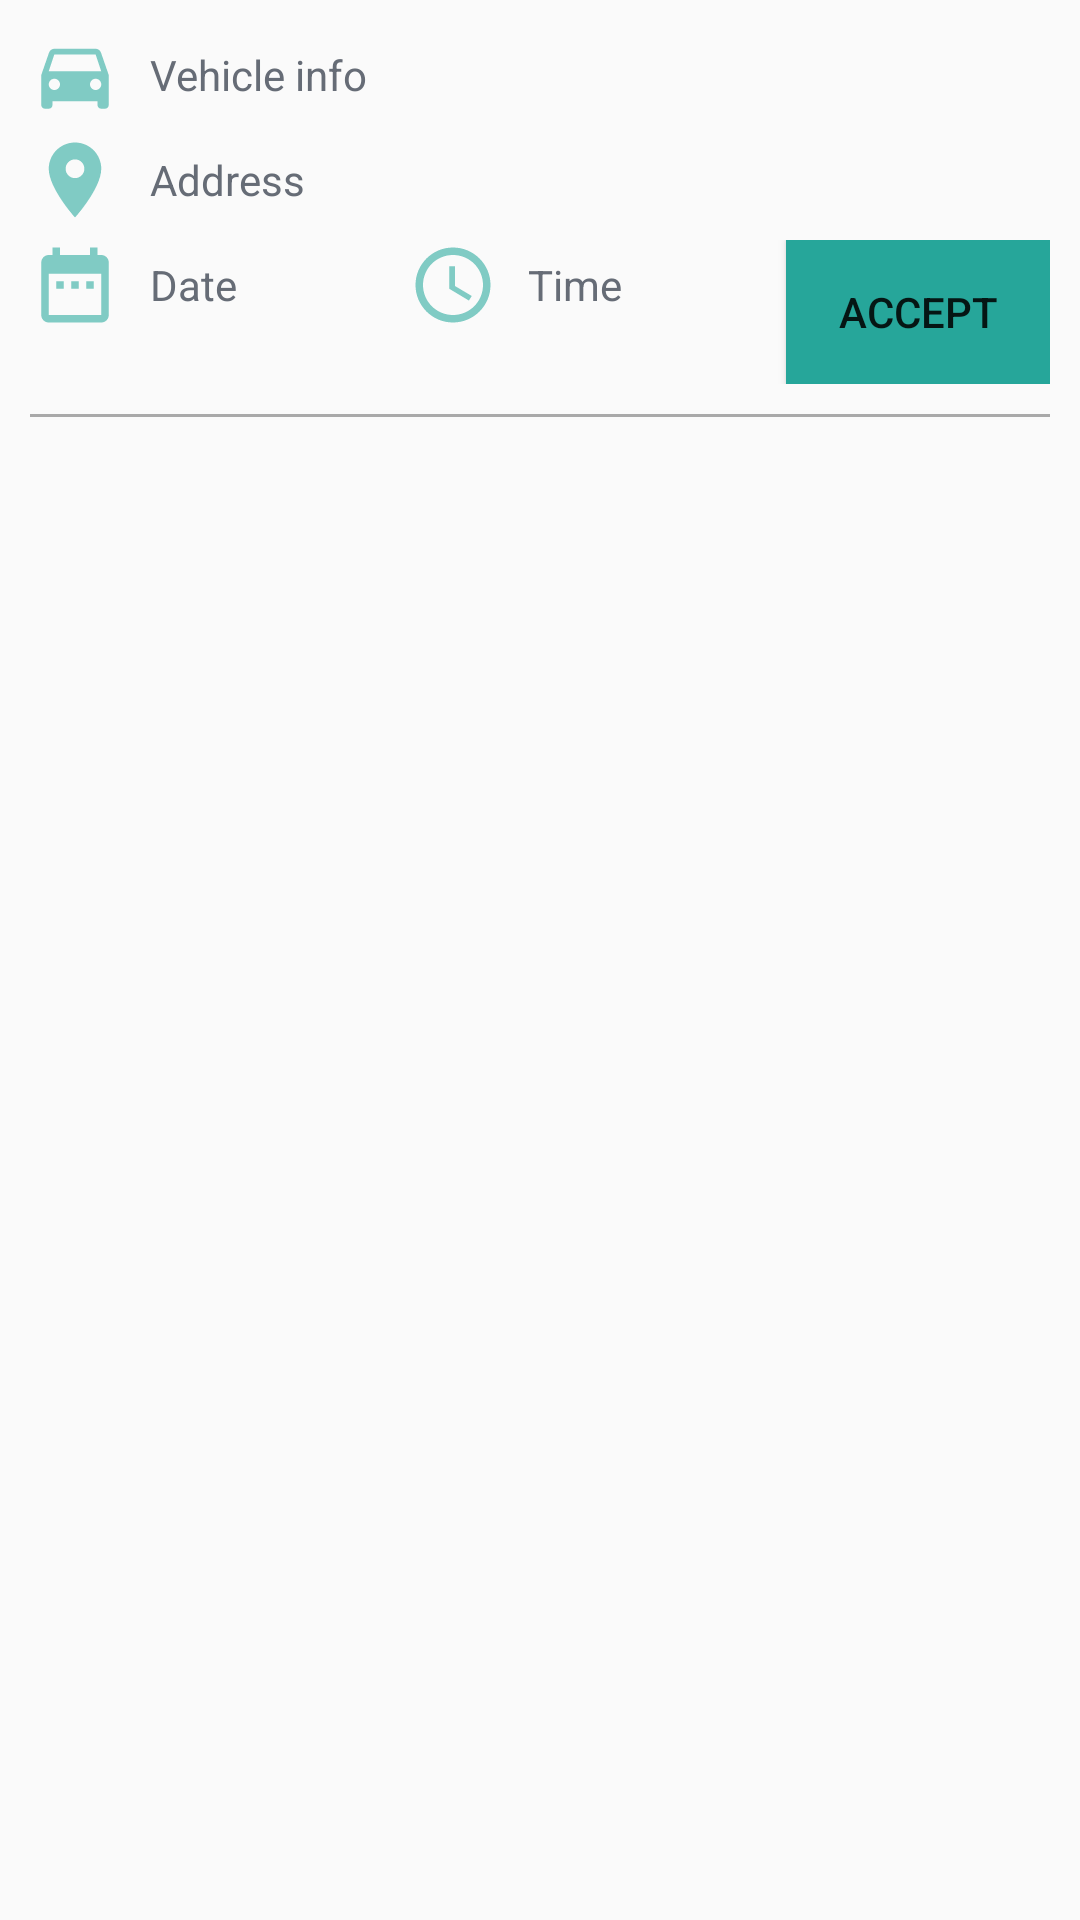

Screen size 1080*1920. Icon name, then its box in pixels as region(x1, y1, x2, y2):
cal: region(41, 247, 109, 323)
location: region(48, 142, 102, 217)
